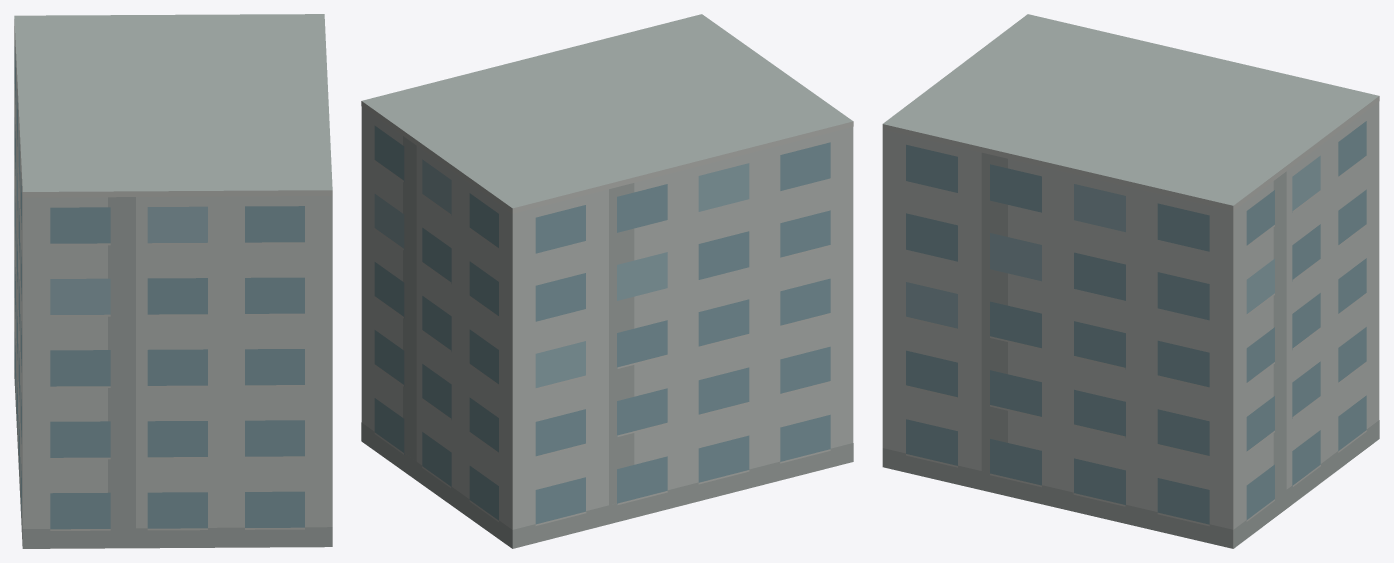
File: survey-upis-32877638.glb
The picture shows the model from 3 angles, left to right: view 1: azimuth 30°, elevation 25°; view 2: azimuth 150°, elevation 25°; view 3: azimuth 270°, elevation 25°; orthographic projection. The views are drawn at different scales.
Visible parts, largest first — view 1: survey-upis-32877638.tmp; view 2: survey-upis-32877638.tmp; view 3: survey-upis-32877638.tmp.
Boxes of the visible parts, x1,y1,x2,y2 form: survey-upis-32877638.tmp: (14, 14, 332, 548); survey-upis-32877638.tmp: (361, 14, 853, 548); survey-upis-32877638.tmp: (882, 14, 1379, 548).
Bounding box in the file's own units: 18.29 × 15.25 × 20.02.
